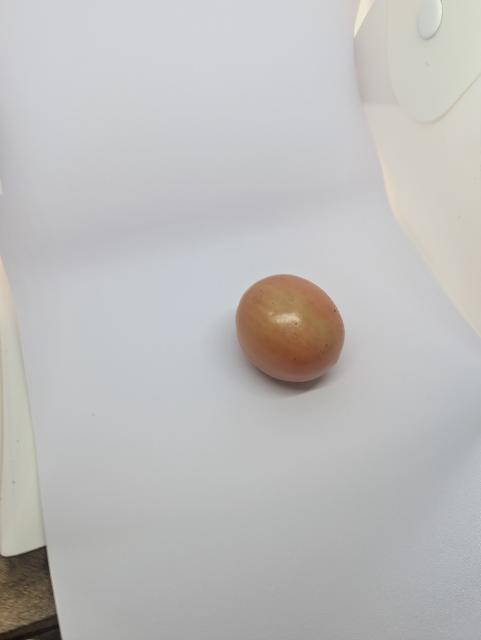turning: (229, 269, 358, 401)
